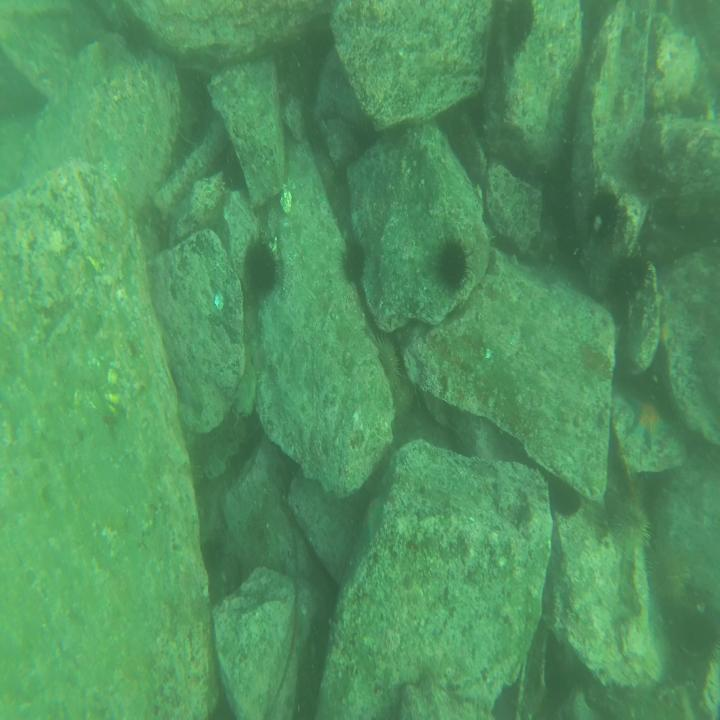echinus: (244, 238, 278, 296), (614, 500, 650, 548), (437, 239, 470, 289), (375, 336, 403, 394), (590, 188, 620, 242), (550, 478, 582, 520), (340, 235, 366, 282)
starfish: (630, 392, 671, 448)
